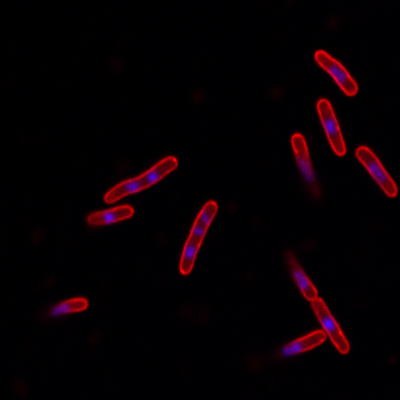Nalidixate: (102, 154, 179, 205), (177, 199, 221, 276), (354, 144, 399, 199), (311, 48, 360, 98), (314, 96, 349, 159), (84, 203, 135, 228)
Oblique: (279, 249, 351, 354), (286, 133, 322, 203), (268, 329, 328, 359), (43, 293, 89, 322)
